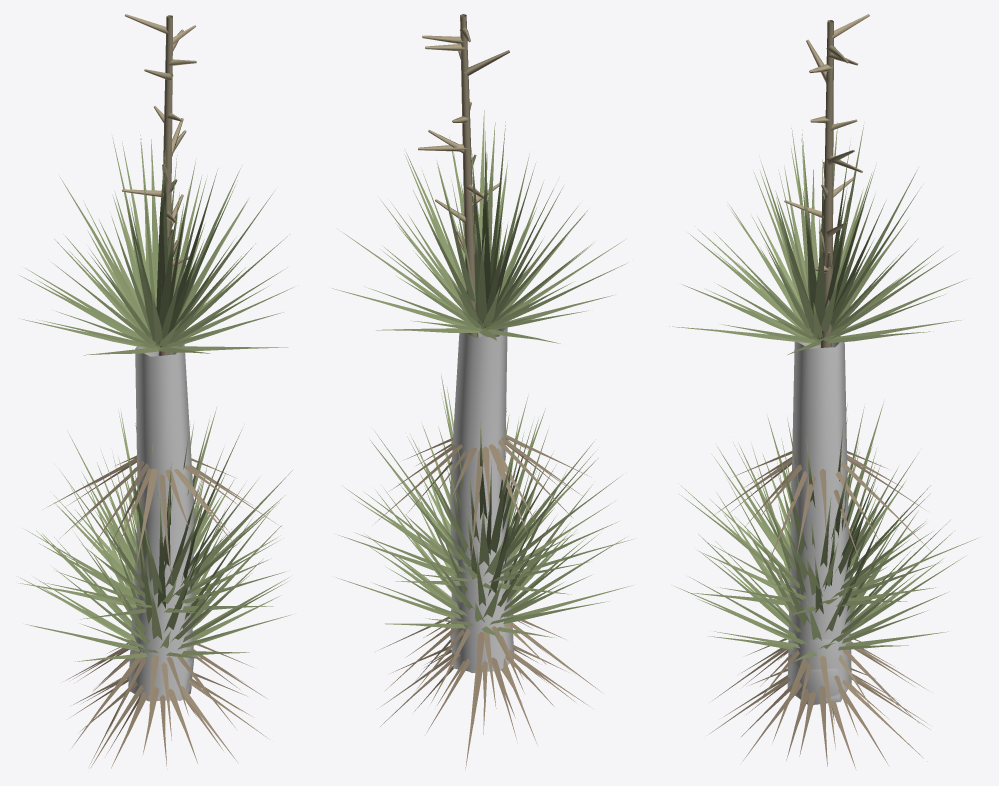
Rendered from yucca.glb.
The picture shows the model from 3 angles, left to right: view 1: azimuth 30°, elevation 25°; view 2: azimuth 150°, elevation 25°; view 3: azimuth 270°, elevation 25°; orthographic projection. The views are drawn at different scales.
Parts seen in each view (by area): view 1: yucca_1, yucca_2, yucca_0; view 2: yucca_1, yucca_2, yucca_0; view 3: yucca_1, yucca_2, yucca_0.
Part boxes in pixels (x1,y1,x2,y2): yucca_1: (19,135,293,701); yucca_2: (18,14,292,767); yucca_0: (20,454,291,768); yucca_1: (332,110,628,672); yucca_2: (338,14,632,744); yucca_0: (336,419,632,770); yucca_1: (669,122,966,698); yucca_2: (678,14,977,749); yucca_0: (674,441,965,768).
Size of the model in its own units: 0.8839 by 2.27 by 0.8797.
